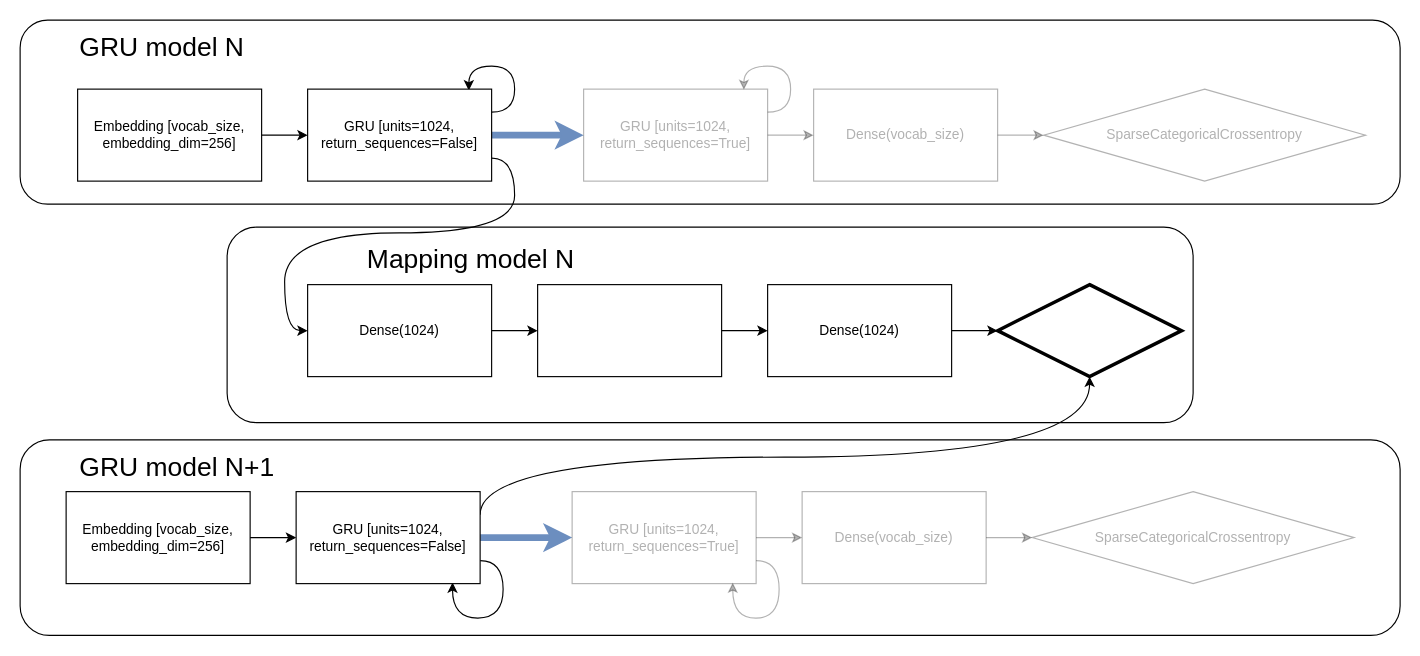
The diagram is 1420 pixels wide and 656 high, and some of its shapes have lost their labels. The shapes that lost their labels are listed below. From the top down, each one's centre as x and y in pixels, then its label:
At pixel 629 330: "Dropout(0.5)".
At pixel 1089 330: "MAE".
